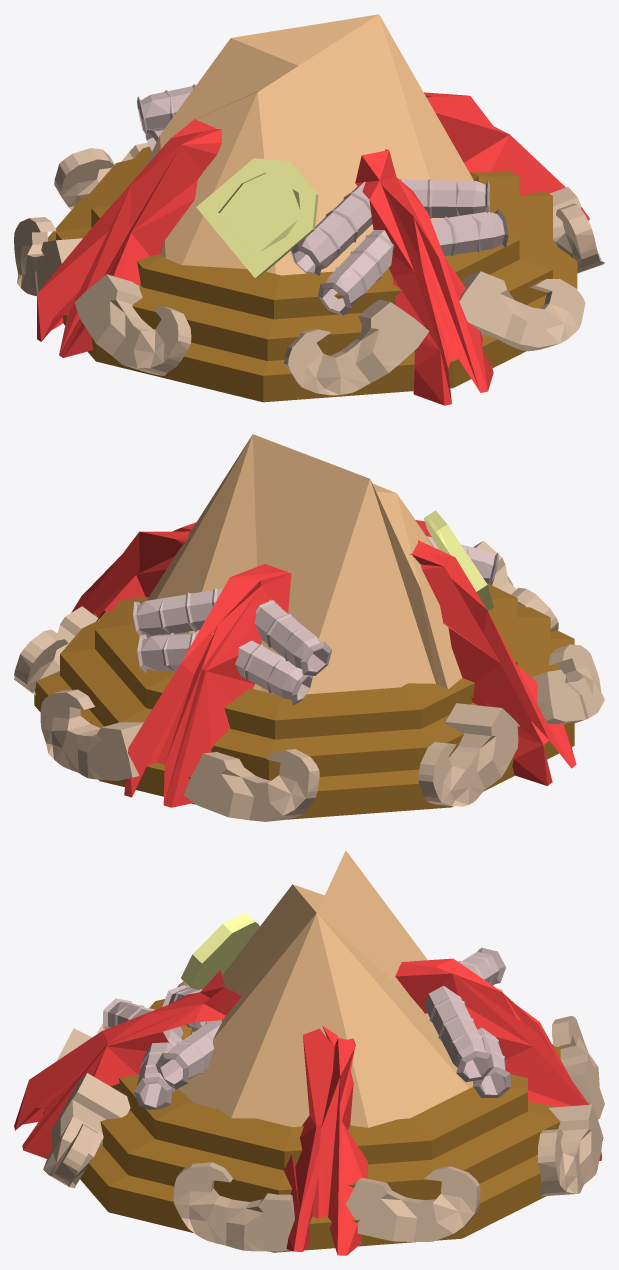
File: Torre español_3.fbx
The picture shows the model from 3 angles, top to bottom: view 1: azimuth 30°, elevation 25°; view 2: azimuth 150°, elevation 25°; view 3: azimuth 270°, elevation 25°; orthographic projection.
Parts seen in each view (by area): view 1: totem_español_tercer_daño; view 2: totem_español_tercer_daño; view 3: totem_español_tercer_daño.
Part boxes in pixels (x1,y1,x2,y2): totem_español_tercer_daño: (14,14,604,405); totem_español_tercer_daño: (14,434,604,821); totem_español_tercer_daño: (14,850,604,1255).
Bounding box in the file's own units: 15.74 × 7.7 × 15.61.
